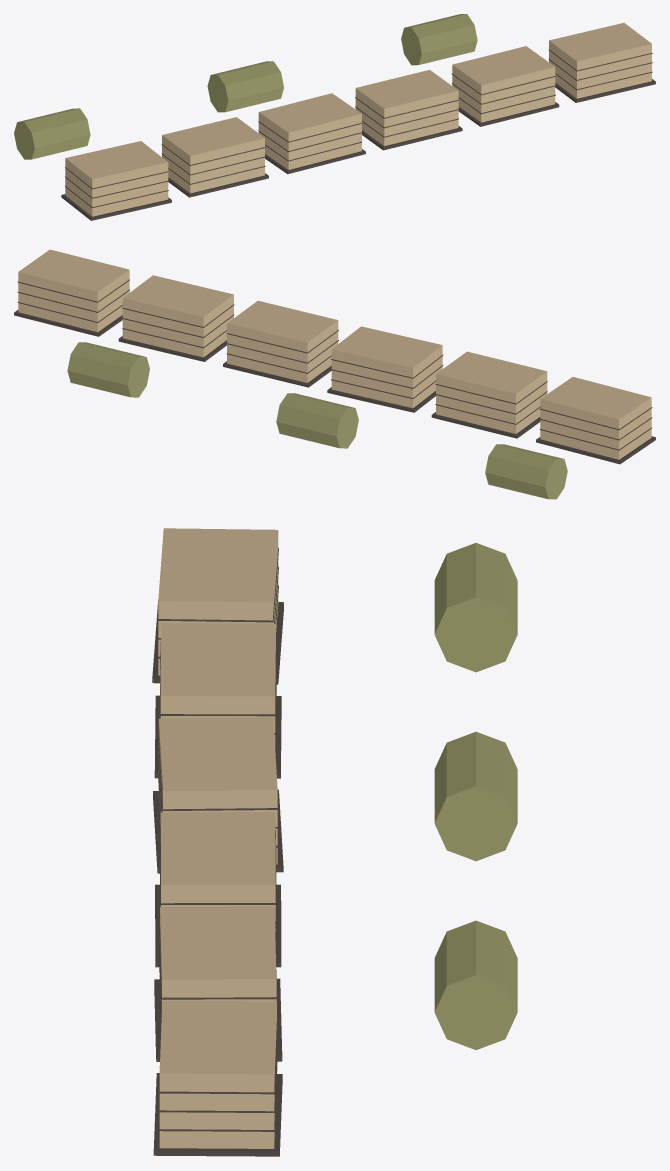
The model's file is SM_AcopioCombustible_v2_Vacio_LOD0.fbx.
3 views of the same model, one above another, from view 1: azimuth 30°, elevation 25°; view 2: azimuth 150°, elevation 25°; view 3: azimuth 270°, elevation 25° (orthographic). The views are drawn at different scales.
Visible parts, largest first — view 1: SM_acopio_carga_v7_LOD0; view 2: SM_acopio_carga_v7_LOD0; view 3: SM_acopio_carga_v7_LOD0.
Boxes of the visible parts, bbox=[...] form: SM_acopio_carga_v7_LOD0: bbox=[14, 14, 655, 220]; SM_acopio_carga_v7_LOD0: bbox=[14, 249, 655, 499]; SM_acopio_carga_v7_LOD0: bbox=[152, 528, 517, 1156].
Size of the model in its own units: 9.1 by 0.615 by 2.55.
